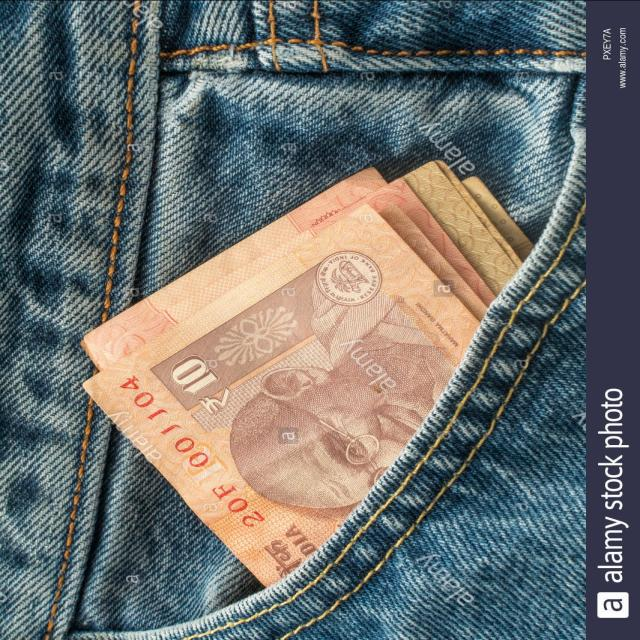10IndianRupees: (90, 199, 476, 532)
